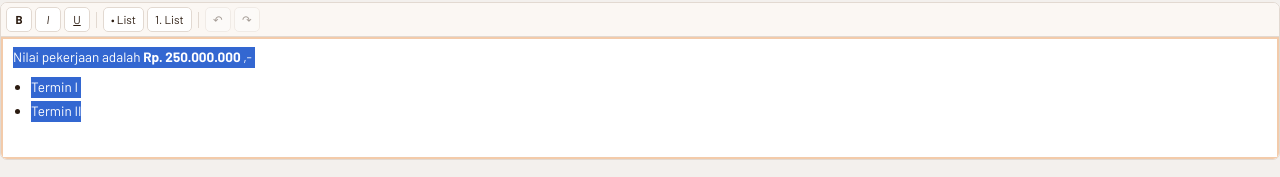
Test: PasalEditor — tampilan › tombol Tebal benar-benar menebalkan teks yang dipilih
Click the button "B": [19, 20] box [6,7,32,32]
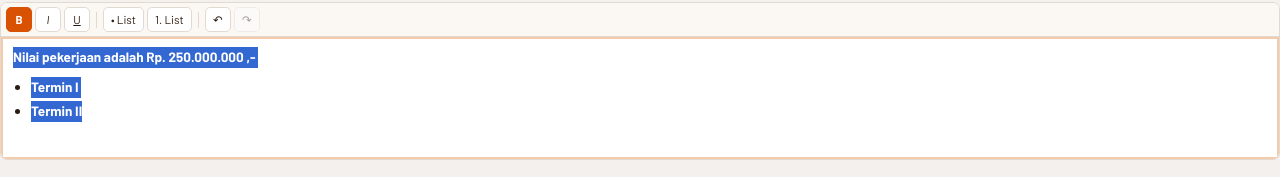
Expected: the button "B" is pressed, [6,7,32,32]
